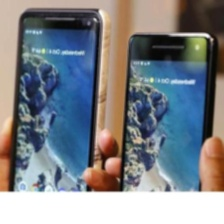phone: (4, 4, 113, 218), (114, 28, 221, 224)
